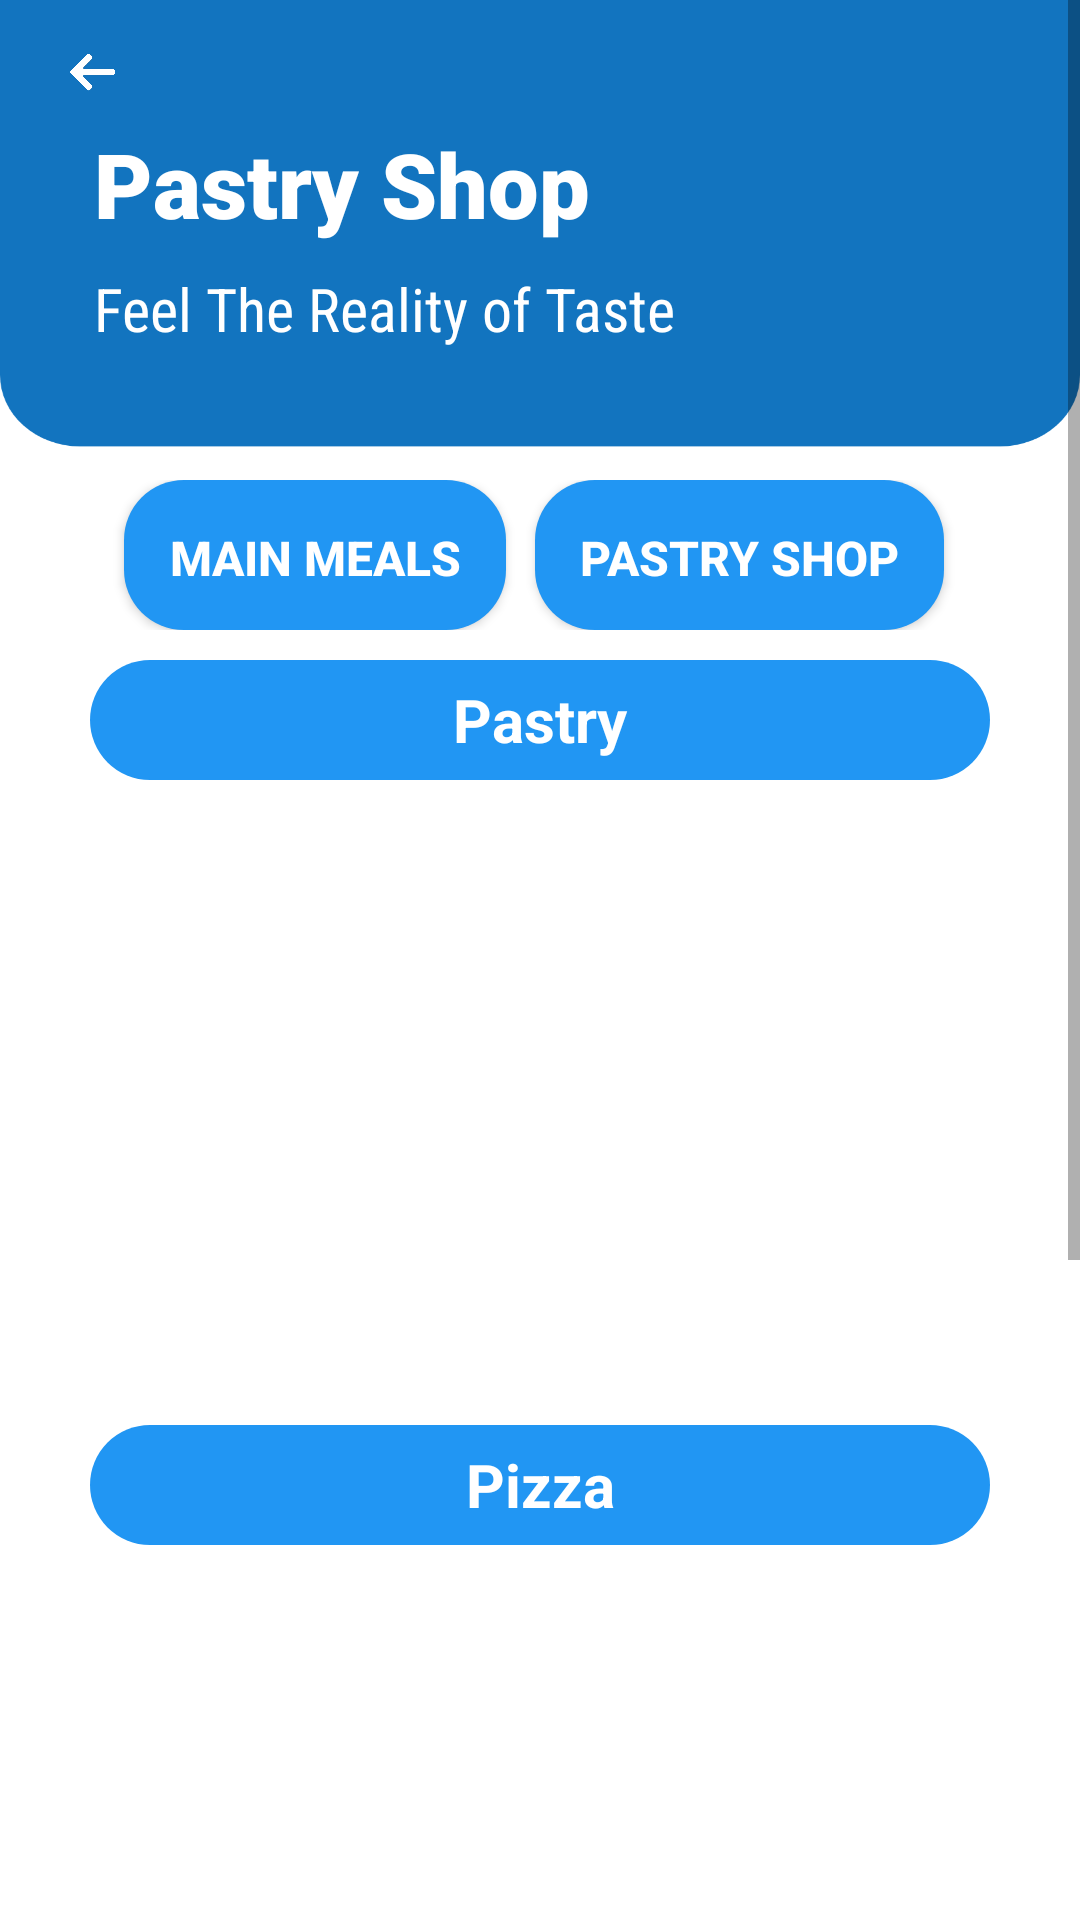

Named icons in this screenshot (1080 × 1920) and their centers, (x=x, y=y):
back: (x=92, y=72)
